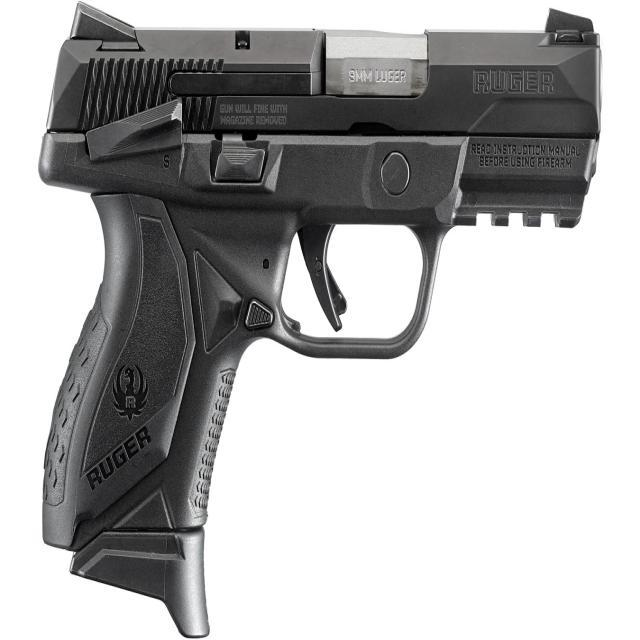Pistol: (34, 0, 615, 640)
